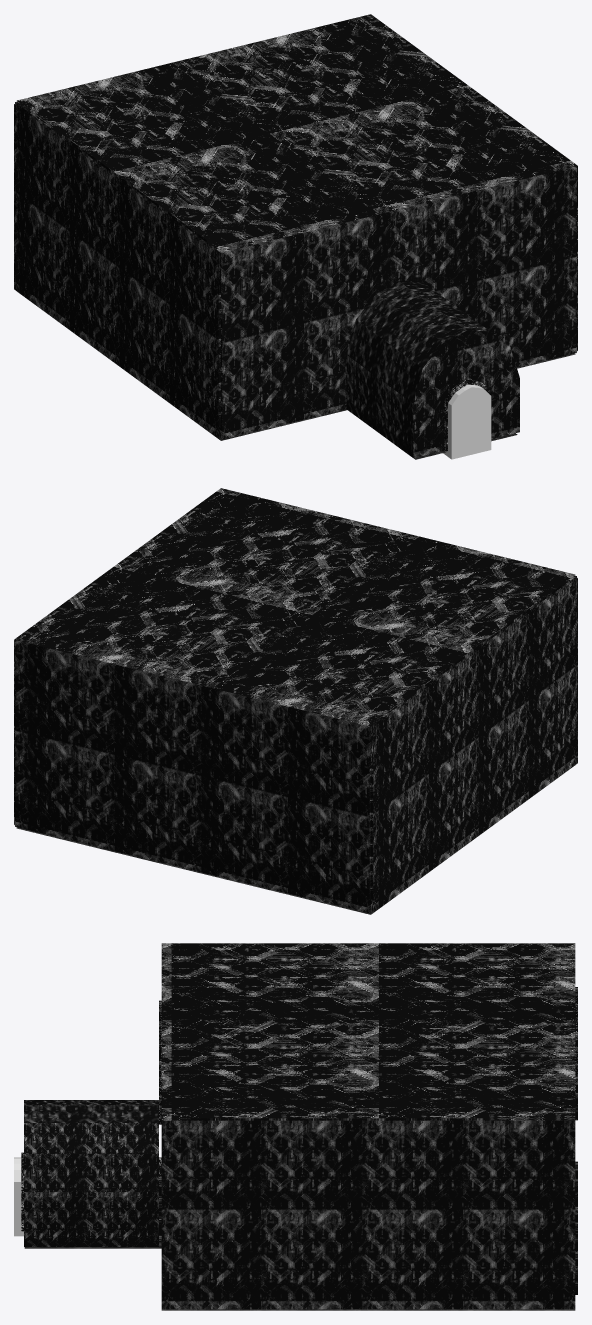
The model's file is Sala.fbx.
3 renders of one model, top to bottom at view 1: azimuth 30°, elevation 25°; view 2: azimuth 150°, elevation 25°; view 3: azimuth 270°, elevation 25°, orthographic.
Visible parts, largest first — view 1: Plane.001, Plane.005; view 2: Plane.001; view 3: Plane.001, Plane.005.
Part boxes in pixels (bbox=[...]): Plane.001: bbox=[14, 14, 577, 459]; Plane.005: bbox=[443, 384, 491, 459]; Plane.001: bbox=[14, 488, 577, 914]; Plane.001: bbox=[21, 943, 577, 1310]; Plane.005: bbox=[14, 1157, 23, 1236].
Bounding box in the file's own units: 1520 × 784 × 2046.
